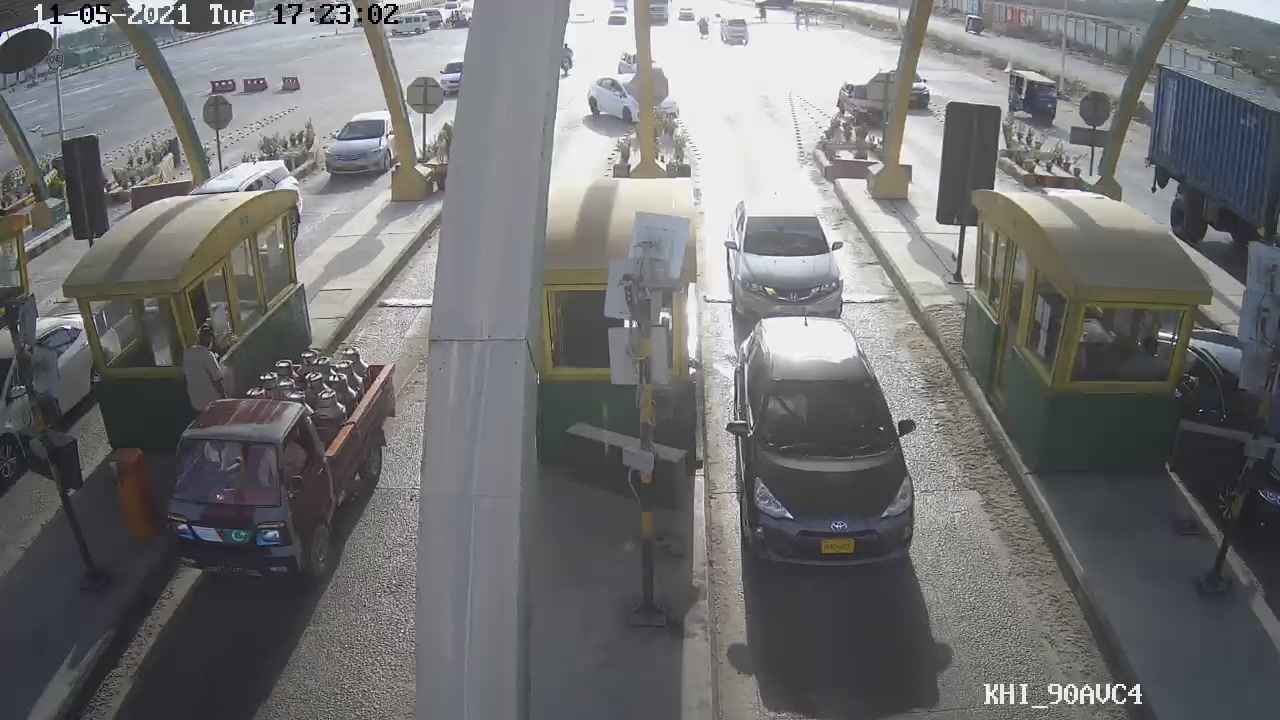F1: (723, 309, 924, 576)
